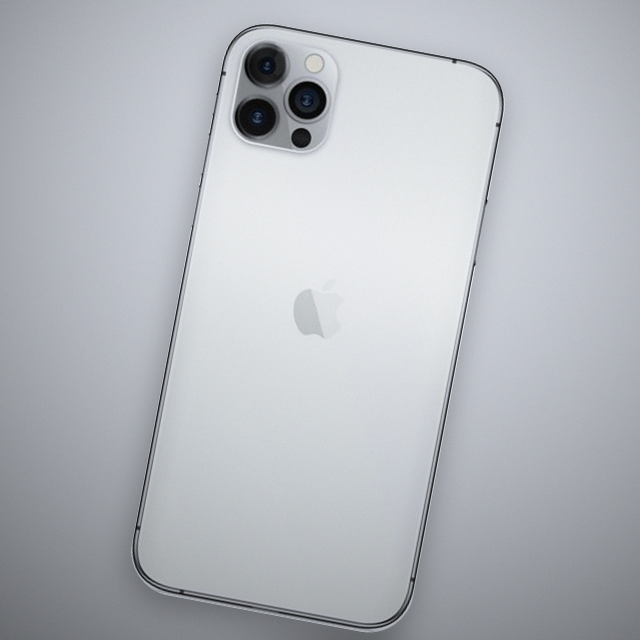iphone_12pro_silver: (67, 14, 566, 640), (208, 34, 348, 165)
